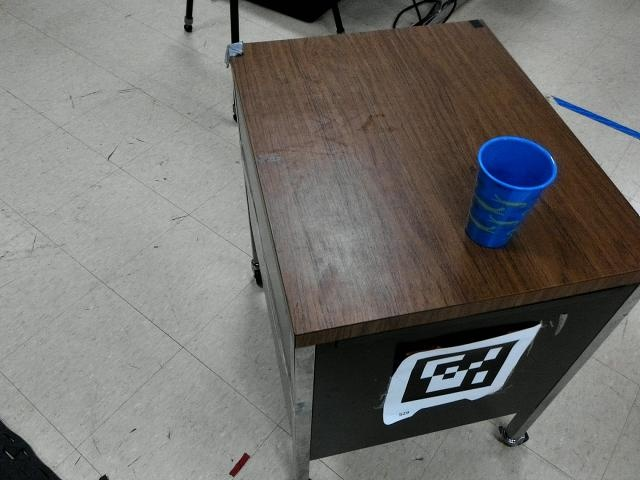water_cup: (462, 128, 561, 259)
